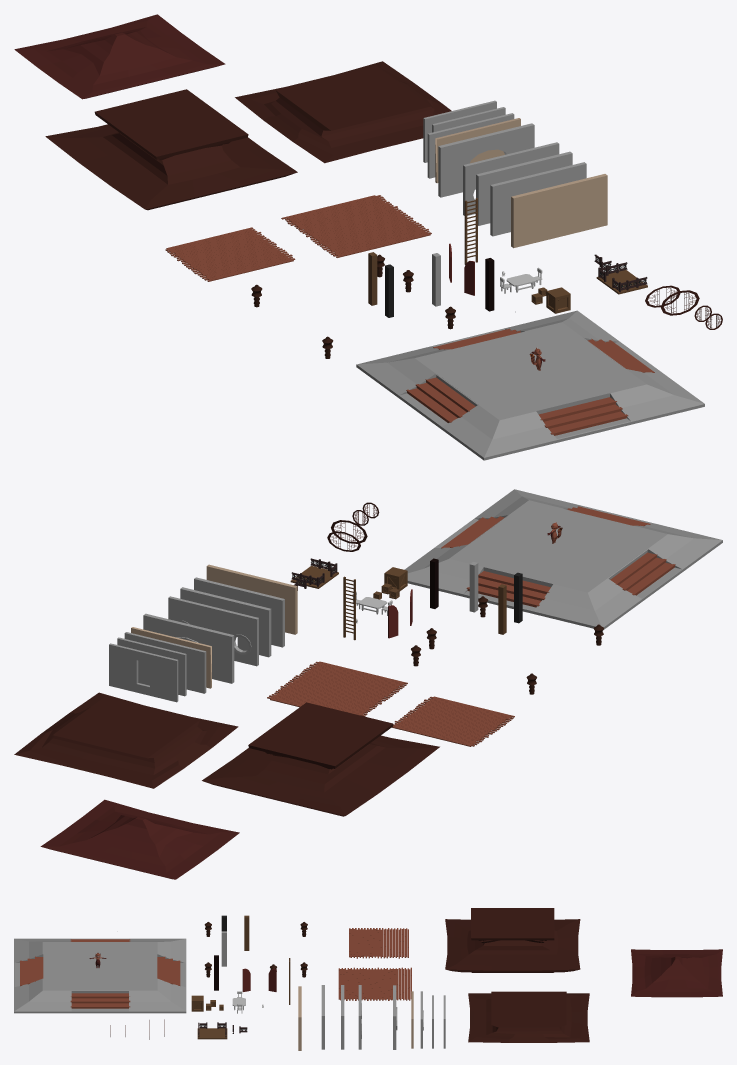
Rendered from ModularBuildingSeperated.fbx.
The picture shows the model from 3 angles, top to bottom: view 1: azimuth 30°, elevation 25°; view 2: azimuth 150°, elevation 25°; view 3: azimuth 270°, elevation 25°; orthographic projection. The views are drawn at different scales.
Visible parts, largest first — view 1: Cube, Cube.005, Cube.006, Cube.008, BagaPie_Floor.001, Plane.002, BagaPie_Floor.002, Plane.004, Plane.005, Plane.010, Plane, Plane.012 (+2 smaller); view 2: Cube, Cube.005, Cube.006, Cube.008, BagaPie_Floor.001, BagaPie_Floor.002, Plane.001, Plane, Plane.004, Plane.002, Plane.010, Plane.005 (+4 smaller); view 3: Cube, Cube.005, Cube.006, Cube.008, BagaPie_Floor.001, BagaPie_Floor.002, Plane.003, Cube.001, Cylinder.001, Plane.004, Plane.002, Plane (+2 smaller).
Boxes of the visible parts, x1,y1,x2,y2 form: Cube: (356, 310, 704, 460); Cube.005: (45, 89, 297, 210); Cube.006: (235, 61, 451, 163); Cube.008: (14, 14, 225, 99); BagaPie_Floor.001: (281, 195, 431, 257); Plane.002: (511, 174, 607, 248); BagaPie_Floor.002: (165, 227, 295, 281); Plane.004: (438, 123, 534, 197); Plane.005: (490, 162, 586, 236); Plane.010: (476, 151, 572, 225); Plane: (463, 142, 559, 215); Plane.012: (435, 118, 520, 183); Cube: (404, 489, 722, 629); Cube.005: (202, 702, 439, 816); Cube.006: (14, 692, 238, 788); Cube.008: (40, 799, 239, 879); BagaPie_Floor.001: (267, 661, 407, 716); BagaPie_Floor.002: (392, 696, 514, 746); Plane.001: (109, 643, 178, 702); Plane: (168, 596, 258, 666); Plane.004: (143, 613, 234, 683); Plane.002: (206, 564, 297, 634); Plane.010: (180, 587, 271, 657); Plane.005: (194, 577, 284, 647); Cube: (14, 938, 186, 1013); Cube.005: (445, 908, 580, 972); Cube.006: (468, 991, 589, 1042); Cube.008: (631, 949, 722, 997); BagaPie_Floor.001: (338, 967, 411, 1000); BagaPie_Floor.002: (349, 928, 408, 958); Plane.003: (242, 968, 276, 991); Cube.001: (197, 1028, 227, 1039); Cylinder.001: (204, 922, 307, 977); Plane.004: (393, 985, 397, 1049); Plane.002: (298, 986, 301, 1050); Plane: (358, 985, 361, 1049).
Size of the model in its own units: 9989 by 1763 by 24983.
